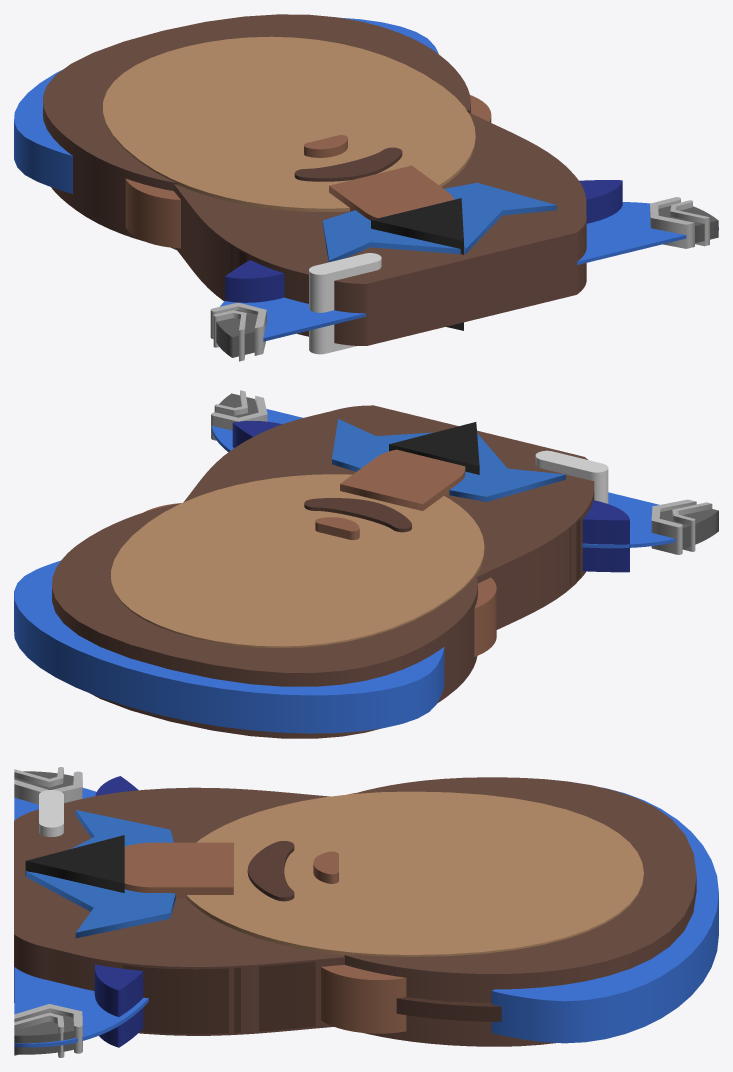
File: emoji_u1f46e_1f3fd_200d_2640.glb
3 renders of one model, top to bottom at view 1: azimuth 30°, elevation 25°; view 2: azimuth 150°, elevation 25°; view 3: azimuth 270°, elevation 25°, orthographic. The views are drawn at different scales.
Parts seen in each view (by area): view 1: emoji_u1f46e_1f3fd_200d_2640; view 2: emoji_u1f46e_1f3fd_200d_2640; view 3: emoji_u1f46e_1f3fd_200d_2640.
Part boxes in pixels (box(x1,y1,x2,y2)): emoji_u1f46e_1f3fd_200d_2640: box(14, 14, 718, 361); emoji_u1f46e_1f3fd_200d_2640: box(14, 390, 718, 738); emoji_u1f46e_1f3fd_200d_2640: box(14, 767, 718, 1057).
Bounding box in the file's own units: 0.0295 × 0.0052 × 0.0334.
